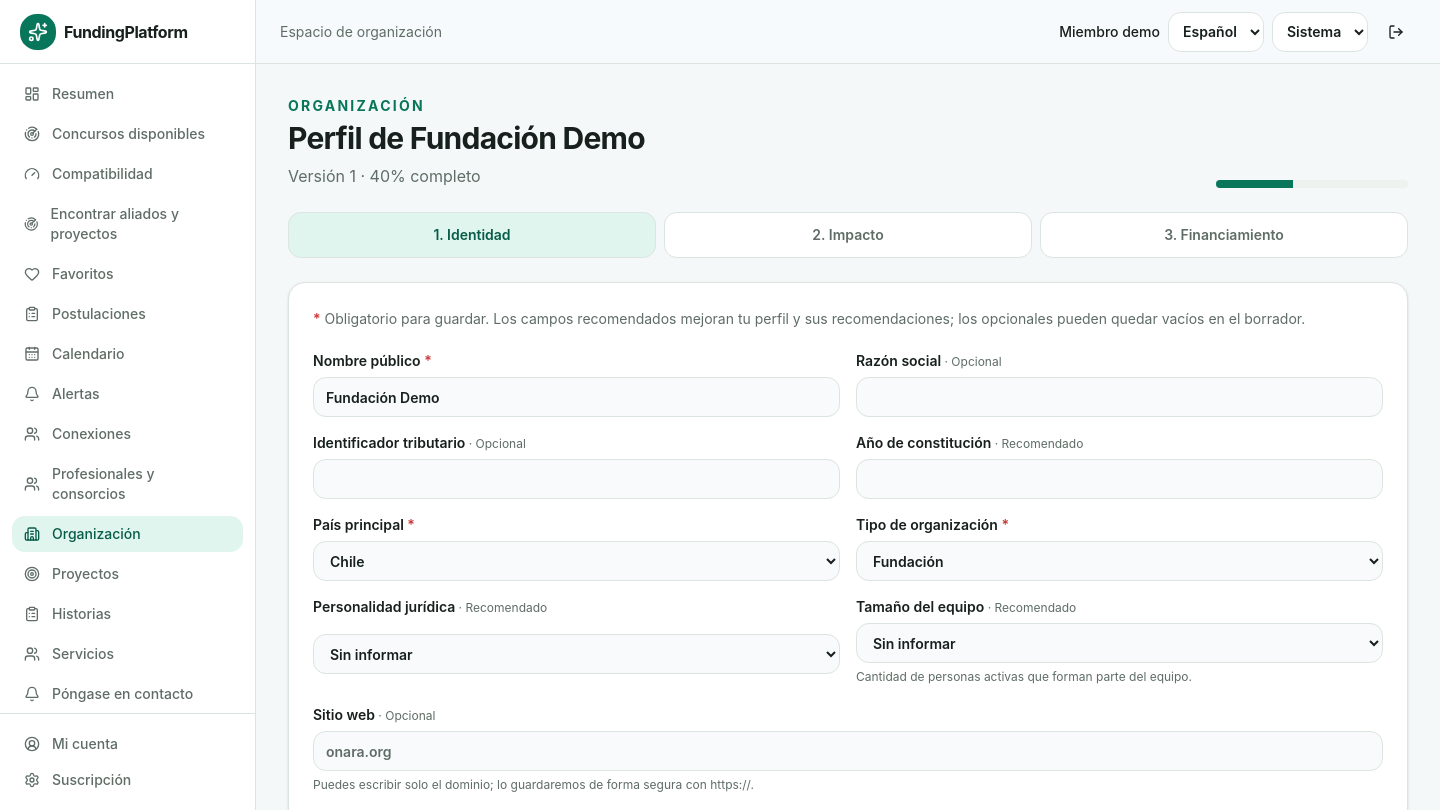
perfil de organización › muestra solo los 12 tipos de proyecto solicitados y en el orden de producto
Expected: the field labelled "Nombre público *" is shown, [313, 377, 840, 417]
Click the button "2. Impacto". click: (848, 235)
box: [664, 212, 1032, 258]
(page scrolled)
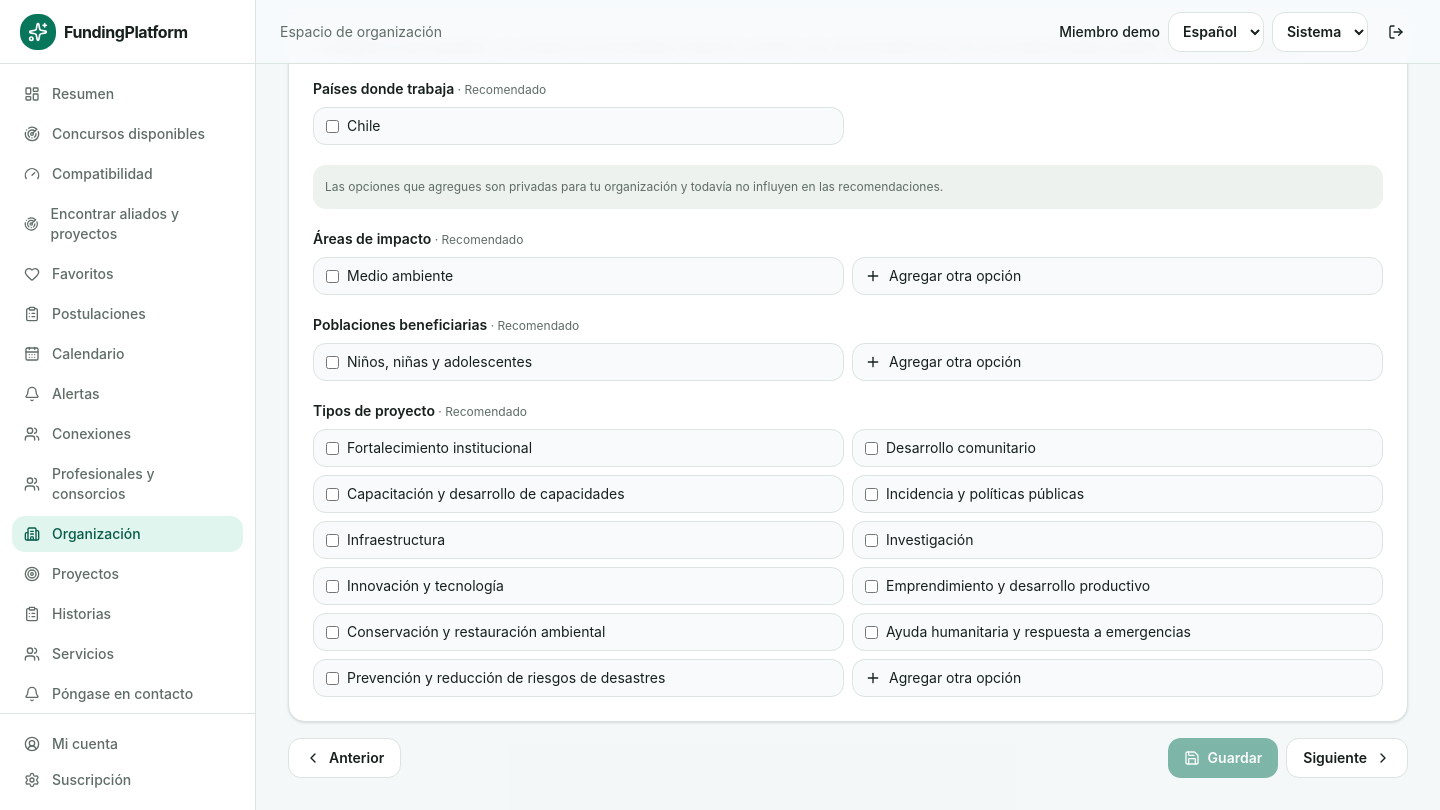
Expected: the button "Agregar otra opción" below "Conservación y restauración ambiental" is shown, [852, 659, 1383, 697]
